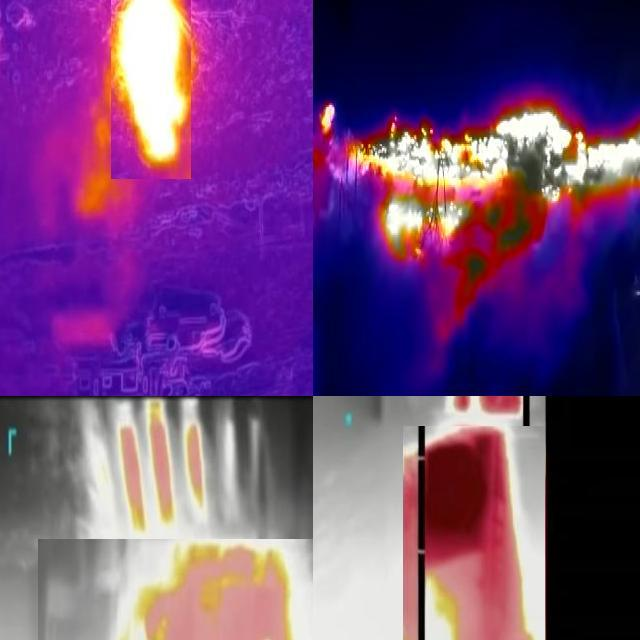fire: (317, 99, 640, 283), (404, 427, 546, 640), (39, 540, 314, 640), (112, 1, 192, 180)
